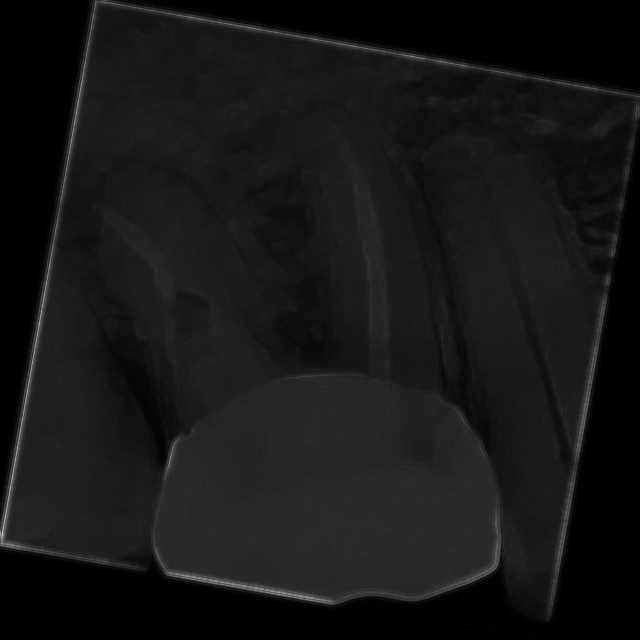Class 2- incomplete endodontic treatment: (28, 61, 560, 535)
